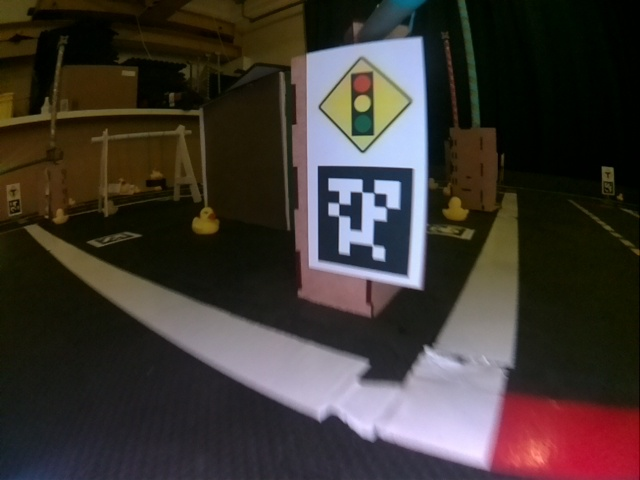Duckie: (192, 206, 219, 233), (446, 197, 468, 222), (52, 209, 69, 224)
Intersection sign: (7, 184, 21, 197), (602, 167, 614, 180)
QR code: (316, 164, 417, 281), (88, 231, 141, 248), (431, 224, 475, 240), (8, 200, 22, 215), (602, 181, 614, 195)
Signal sign: (308, 39, 426, 149)
